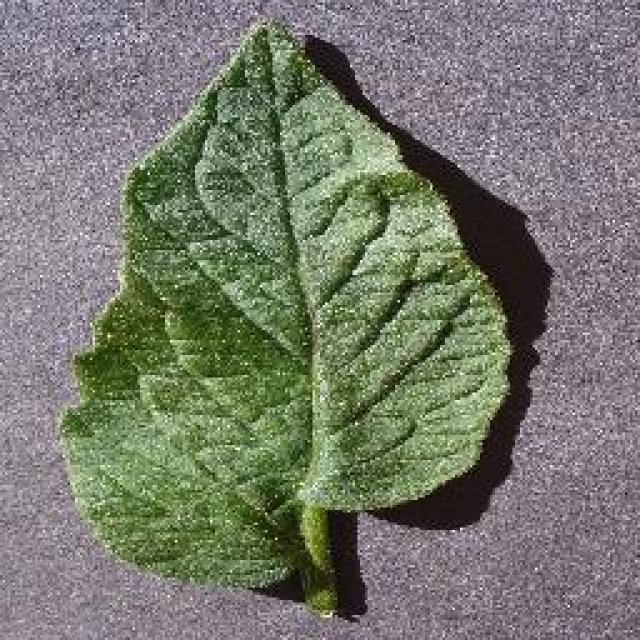Tomato healthy leaf: (53, 16, 505, 599)
